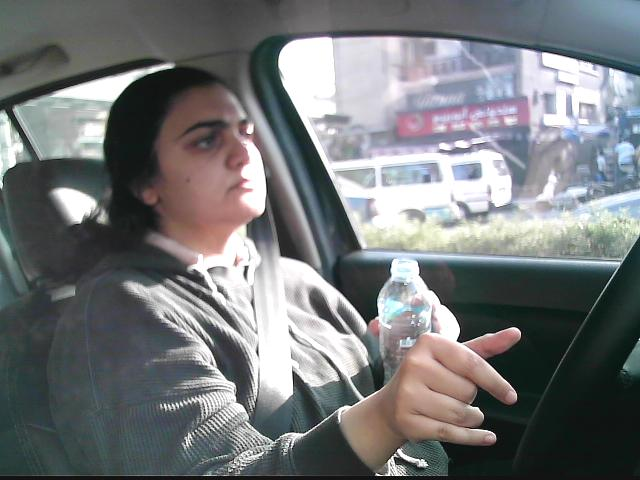Drinking: (375, 254, 437, 433)
